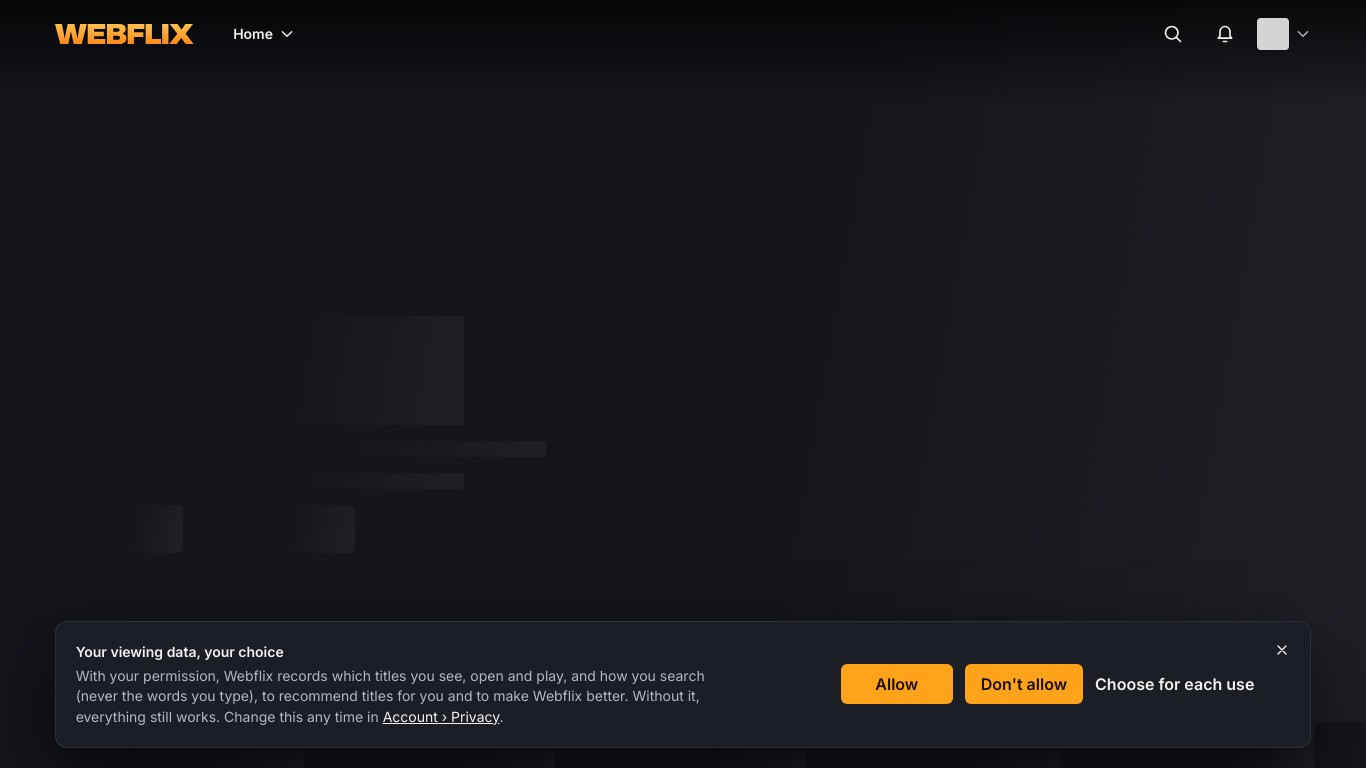
Scenario: the consent prompt › can wait: 'Decide later' puts it off for this visit and records nothing
Step 1. Click the button named "Decide later" → (1282, 650), box [1266, 634, 1298, 666]
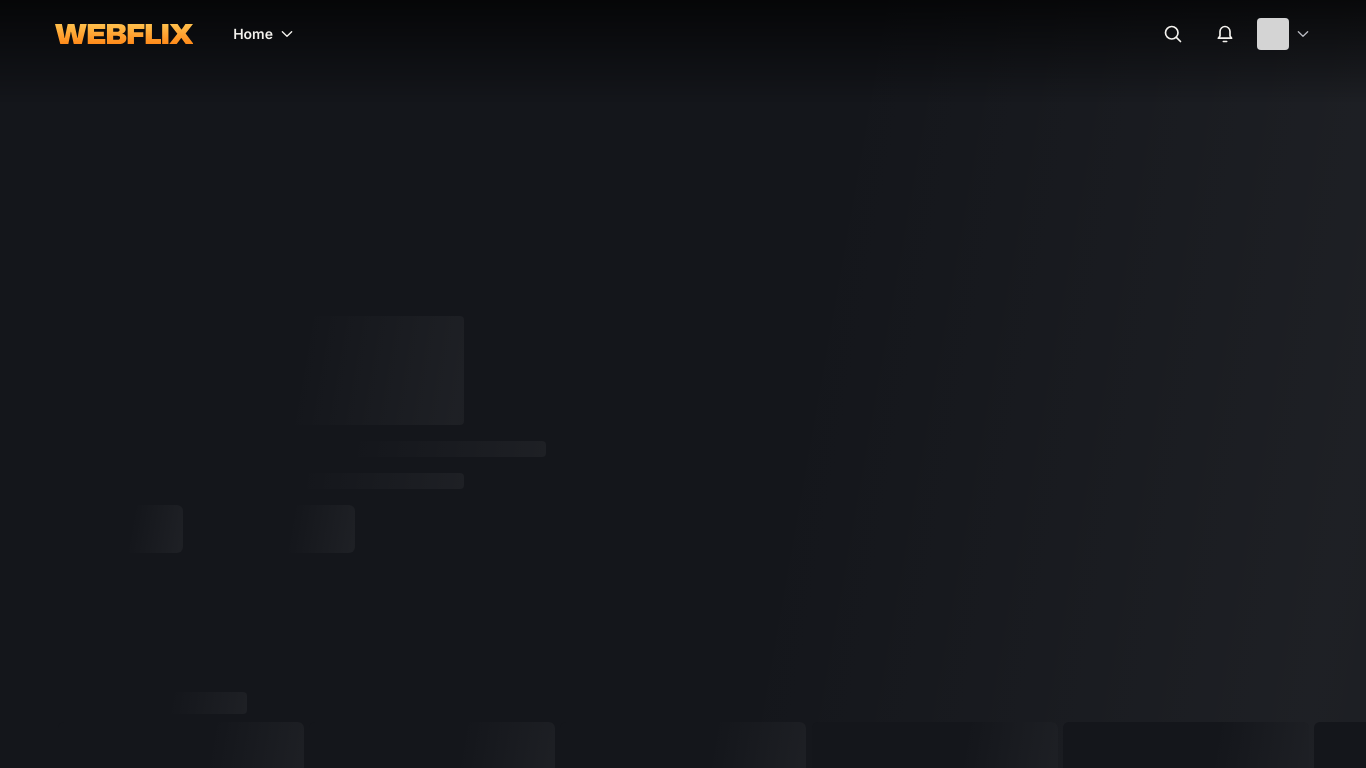
Check: the heading "Your viewing data, your choice" is gone
